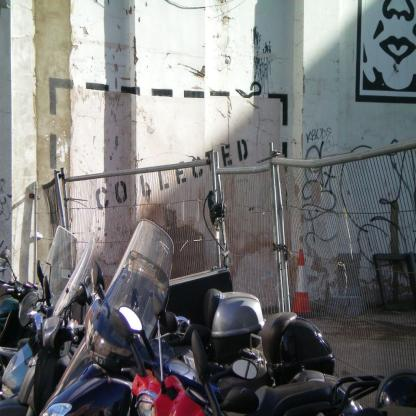Helmet: (258, 309, 343, 376), (206, 289, 264, 365)
